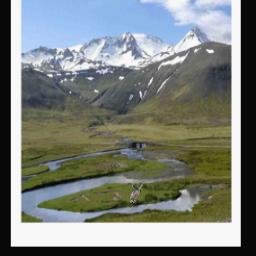Sparrow: (130, 180, 145, 203)
